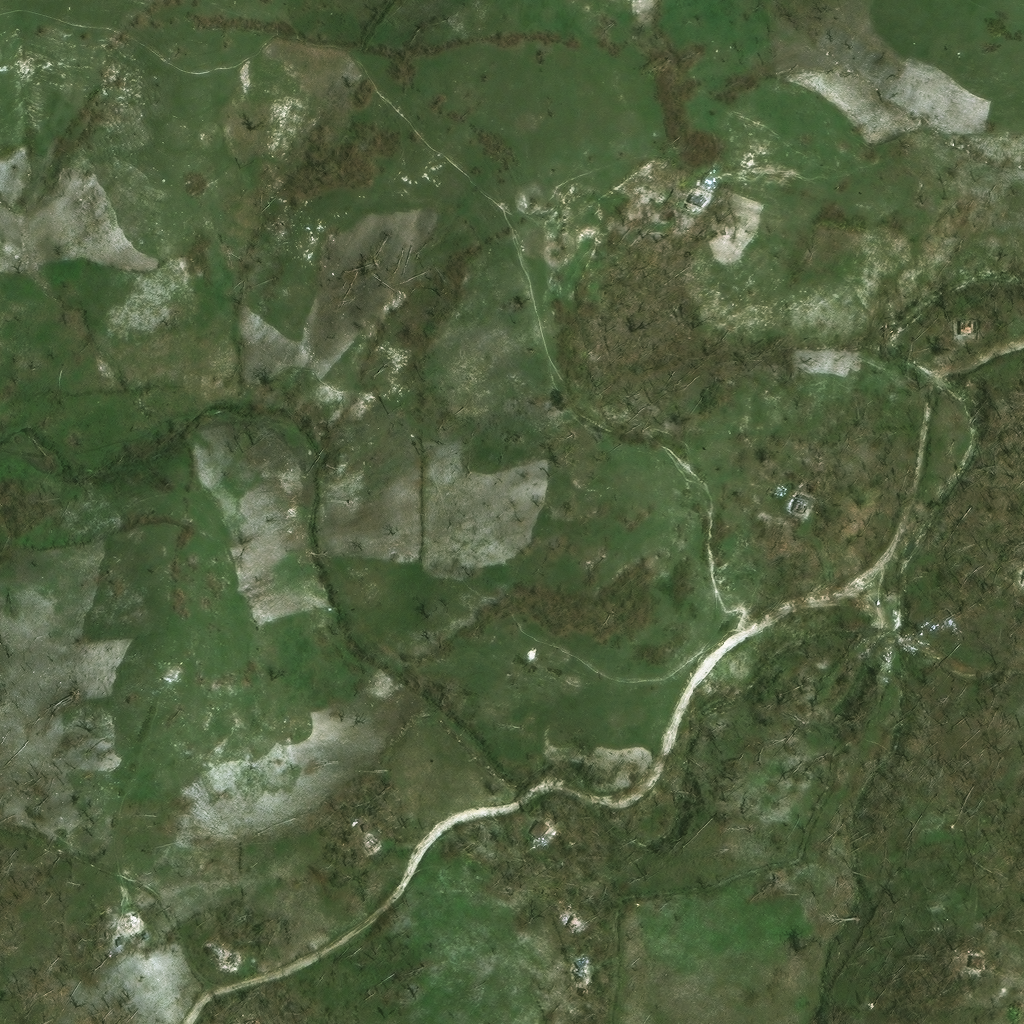destroyed: (367, 824, 392, 849), (566, 908, 589, 932), (787, 493, 807, 516), (569, 957, 585, 980), (1005, 382, 1021, 397), (800, 479, 812, 492), (649, 210, 662, 221)
major_damage: (968, 310, 991, 325)
minor_damage: (672, 193, 693, 216), (539, 813, 559, 835), (970, 953, 985, 966)
